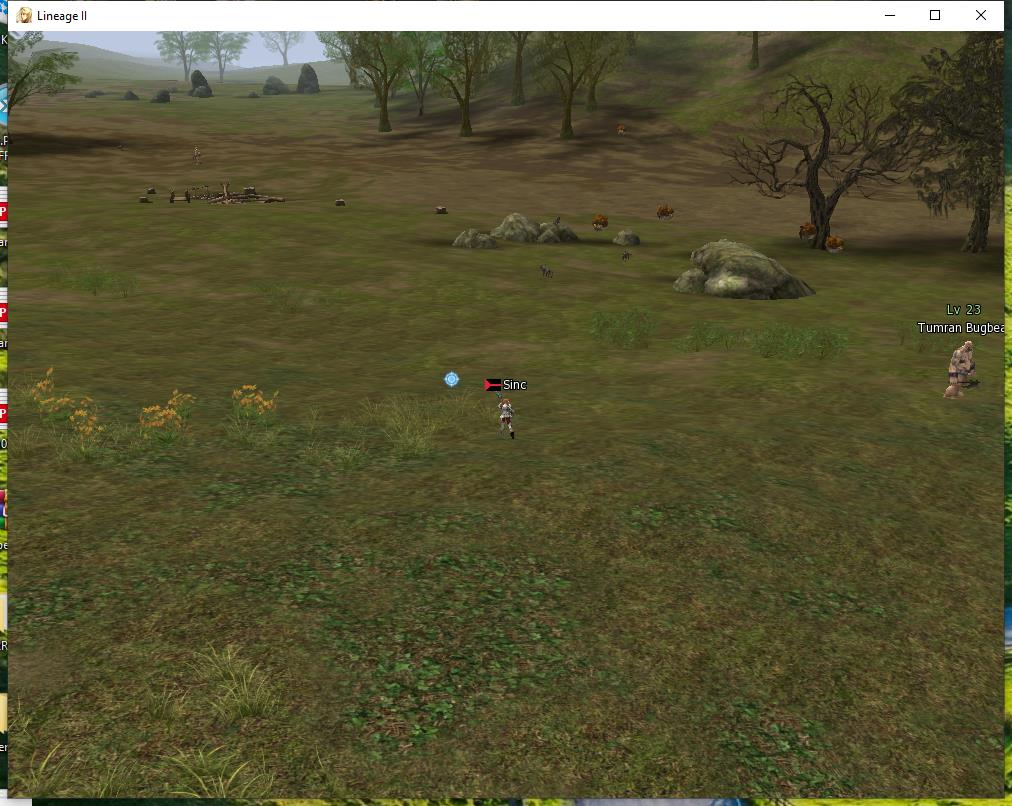monster: (916, 285, 1006, 406), (650, 197, 685, 225), (582, 210, 616, 236), (537, 258, 558, 281), (827, 232, 847, 255), (799, 218, 819, 241)
